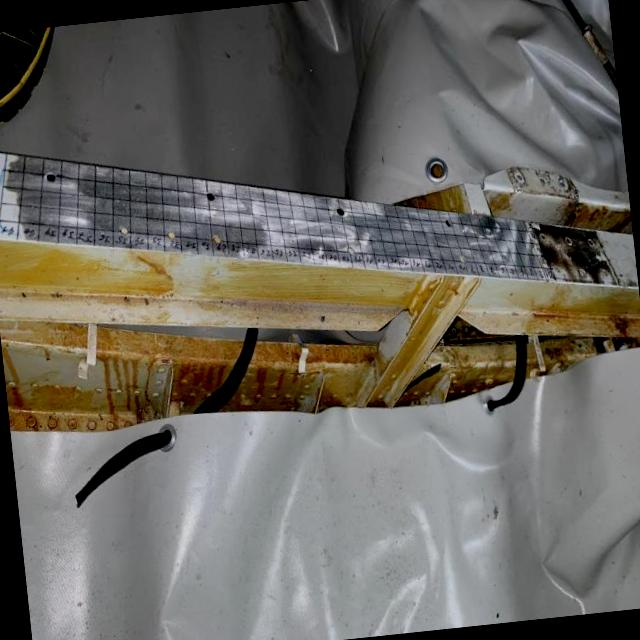Missing Fastener: (32, 164, 64, 193), (322, 202, 352, 222), (196, 188, 222, 206), (437, 208, 459, 228)
